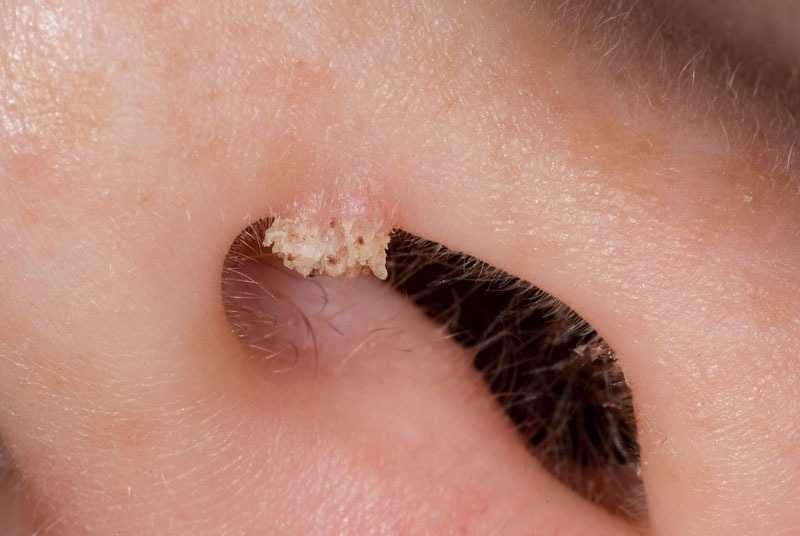Warts: (254, 144, 409, 287)
